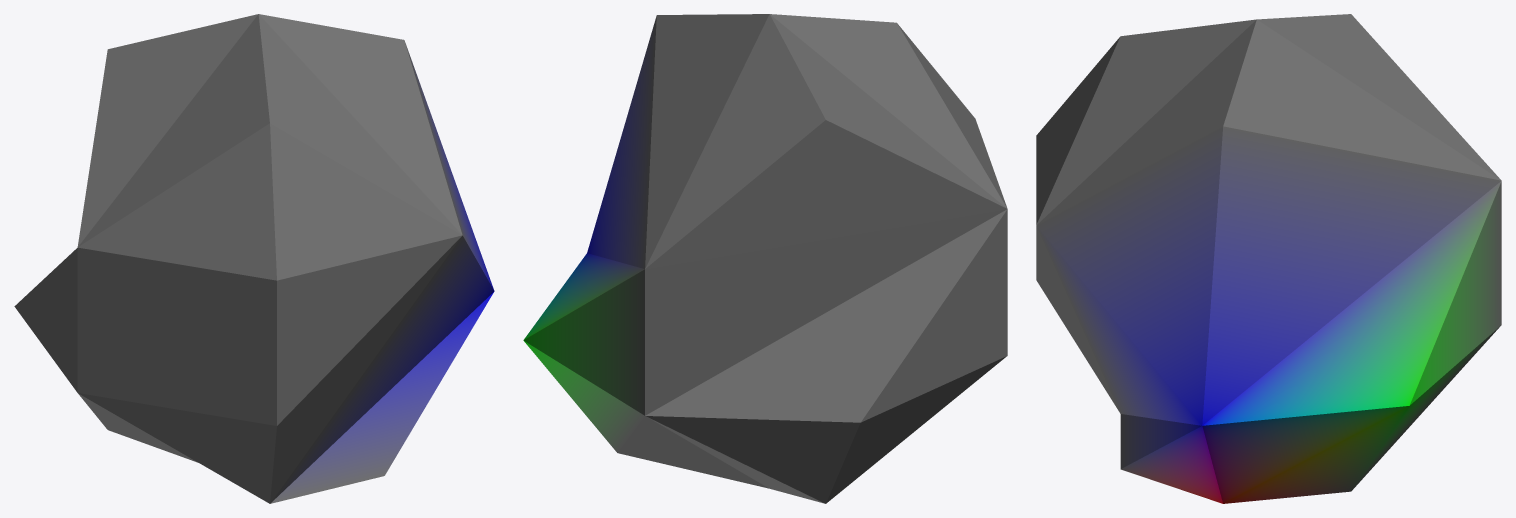
The model's file is gate_cleaning_conquest_41.obj.
3 renders of one model, left to right at view 1: azimuth 30°, elevation 25°; view 2: azimuth 150°, elevation 25°; view 3: azimuth 270°, elevation 25°, orthographic.
Size of the model in its own units: 1.85 by 2 by 1.81.
